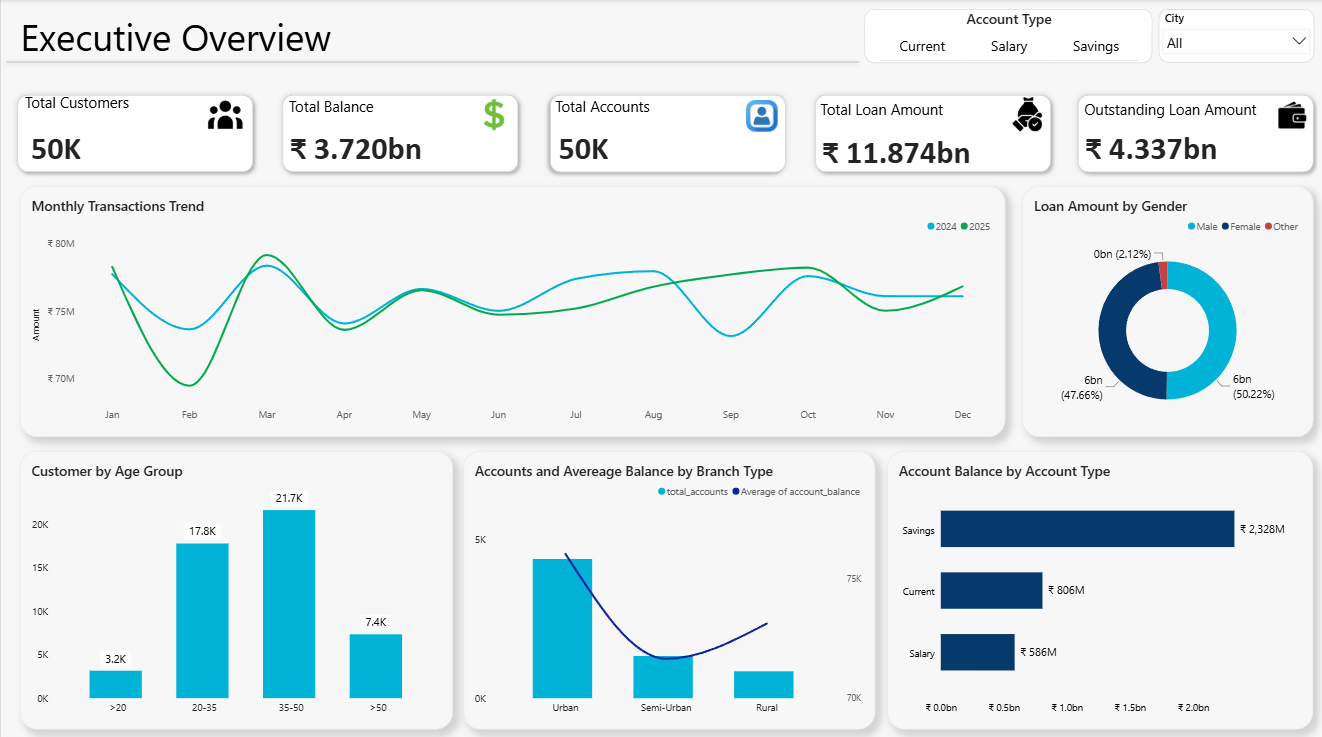

The page's visual inventory and layout, read from the dashboard file:
{"tool":"powerbi","page":{"name":"Executive Overview","canvas":[1920,1080],"ordinal":0},"visuals":[{"type":"donutChart","title":"Gender Distribution","fields":{"Category":["bank customers_analysis.gender"],"Y":["CountNonNull(bank customers_analysis.customer_id)"]},"box":[1482,272,422,364],"z":0},{"type":"lineStackedColumnComboChart","title":"Customer by Age Group","fields":{"Category":["bank customers_analysis.age_group"],"Y":["CountNonNull(bank customers_analysis.customer_id)"]},"box":[28,656,628,404],"z":1000},{"type":"textbox","box":[28,18,452,112],"z":2000},{"type":"shape","box":[15,130,360,130],"z":3000},{"type":"card","title":"Total Customers","fields":{"Values":["measures (2).total_customers"]},"box":[0,170,160,85],"z":4000},{"type":"textbox","box":[35,136.3,290,60.3],"z":5000},{"type":"shape","box":[400.2,130.8,360,130],"z":6000},{"type":"card","title":"Total Customers","fields":{"Values":["account_measures.Total_accounts_balance"]},"box":[396.2,170.4,239.4,85.6],"z":7000},{"type":"textbox","box":[417.7,140.4,293.9,58.4],"z":8000},{"type":"shape","box":[788.3,130.4,360,130.4],"z":9000},{"type":"card","title":"Total Customers","fields":{"Values":["account_measures.total_accounts"]},"box":[792,170,108,86],"z":10000},{"type":"textbox","box":[803.9,140.4,323.1,60.3],"z":11000},{"type":"shape","box":[1172,130,360,130],"z":12000},{"type":"card","title":"Total Customers","fields":{"Values":["loan_measures.total_loan_amount"]},"box":[1171,176,258.3,86.1],"z":13000},{"type":"textbox","box":[1188.6,145.4,293.9,60],"z":14000},{"type":"shape","box":[1553.1,129.9,360.1,130.4],"z":15000},{"type":"card","title":"Total Customers","fields":{"Values":["loan_measures.outstanding_loan_amount"]},"box":[1550.1,170.9,239.4,85.6],"z":16000},{"type":"textbox","box":[1571.6,145,293.9,60],"z":17000},{"type":"lineChart","title":"Monthly Transactions Trend","fields":{"Y":["transaction_measures.total_transactions_value"],"Series":["DateTable.Year"],"Category":["DateTable.Month"]},"box":[28,272,1430,364],"z":18000},{"type":"clusteredBarChart","title":"Account Balance by Account Type","fields":{"Category":["bank accounts_analysis.account_type"],"Y":["account_measures.Total_accounts_balance"]},"box":[1286,656,618,404],"z":19000},{"type":"lineStackedColumnComboChart","title":"Accounts and Avereage Balance by Branch Type","fields":{"Y":["account_measures.total_accounts"],"Y2":["Avg(bank accounts_analysis.account_balance)"],"Category":["bank branches_analysis.branch_type"]},"box":[670,656,598,404],"z":20000},{"type":"slicer","fields":{"Values":["bank customers_analysis.city"]},"box":[1679.2,13.8,225.4,77.7],"z":21000},{"type":"slicer","title":"Account Type","fields":{"Values":["bank accounts_analysis.account_type"]},"box":[1253.1,13.8,417.7,78.5],"z":22000},{"type":"shape","box":[0,82.4,1253,18.3],"z":23000},{"type":"image","box":[280,140,90,55],"z":24000},{"type":"image","box":[1058,146,90,46],"z":25000},{"type":"image","box":[670,142,90,50],"z":26000},{"type":"image","box":[1448,140,84,56],"z":27000},{"type":"image","box":[1834,148,80,40],"z":28000}]}

Visuals, with their boxes in screenshot pixels (x1, y1, x2, y2), scaled from the page's 1920x1080 canvas onto the 1322x737 screenshot:
"Gender Distribution" donutChart: locate(1020, 186, 1311, 434)
"Customer by Age Group" lineStackedColumnComboChart: locate(19, 448, 452, 723)
textbox: locate(19, 12, 330, 89)
shape: locate(10, 89, 258, 177)
"Total Customers" card: locate(0, 116, 110, 174)
textbox: locate(24, 93, 224, 134)
shape: locate(276, 89, 523, 178)
"Total Customers" card: locate(273, 116, 438, 175)
textbox: locate(288, 96, 490, 136)
shape: locate(543, 89, 791, 178)
"Total Customers" card: locate(545, 116, 620, 175)
textbox: locate(554, 96, 776, 137)
shape: locate(807, 89, 1055, 177)
"Total Customers" card: locate(806, 120, 984, 179)
textbox: locate(818, 99, 1021, 140)
shape: locate(1069, 89, 1317, 178)
"Total Customers" card: locate(1067, 117, 1232, 175)
textbox: locate(1082, 99, 1284, 140)
"Monthly Transactions Trend" lineChart: locate(19, 186, 1004, 434)
"Account Balance by Account Type" clusteredBarChart: locate(885, 448, 1311, 723)
"Accounts and Avereage Balance by Branch Type" lineStackedColumnComboChart: locate(461, 448, 873, 723)
slicer - bank customers_analysis.city: locate(1156, 9, 1311, 62)
"Account Type" slicer: locate(863, 9, 1150, 63)
shape: locate(0, 56, 863, 69)
image: locate(193, 96, 255, 133)
image: locate(728, 100, 790, 131)
image: locate(461, 97, 523, 131)
image: locate(997, 96, 1055, 134)
image: locate(1263, 101, 1318, 128)
